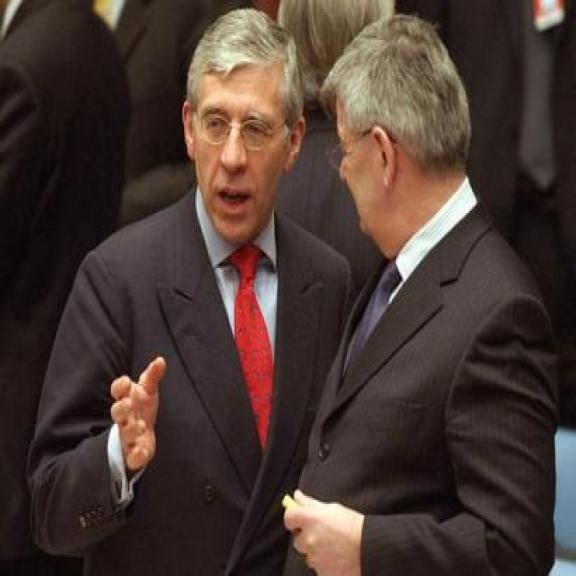face: (182, 64, 304, 236), (337, 91, 397, 258)
